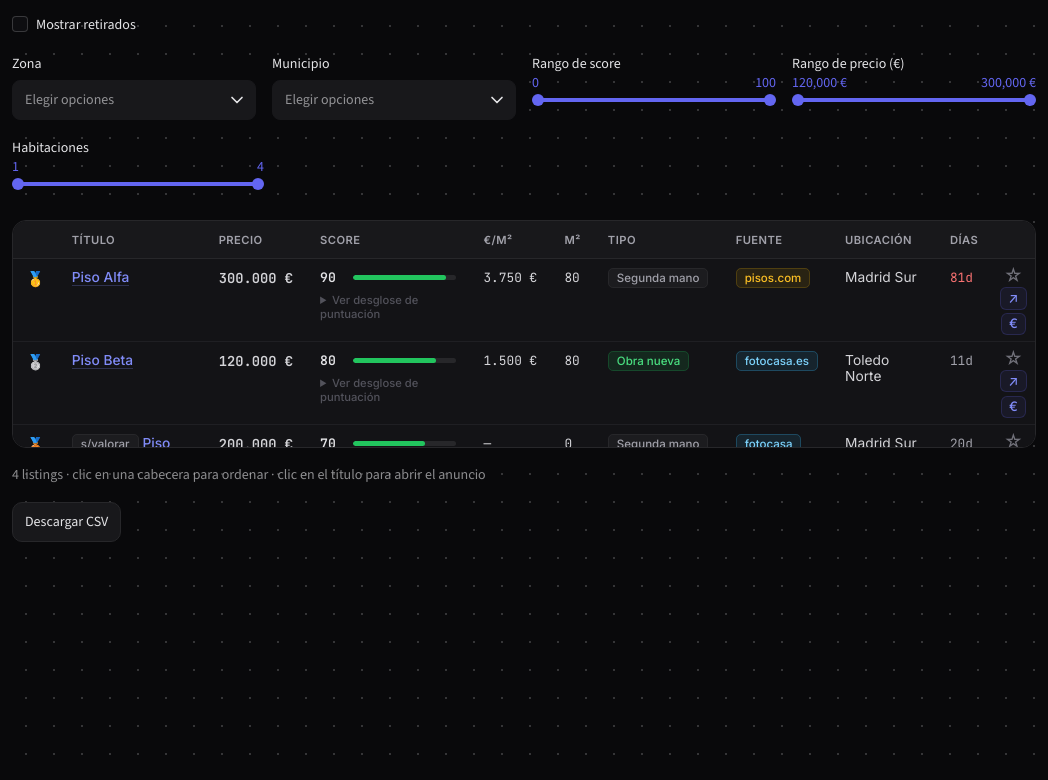
Test: Listados: ordenación por cabecera › primer clic ascendente, segundo descendente, con flecha
Step 1. Click the column heading "Precio" → point(256, 240), box [205,221,306,259]
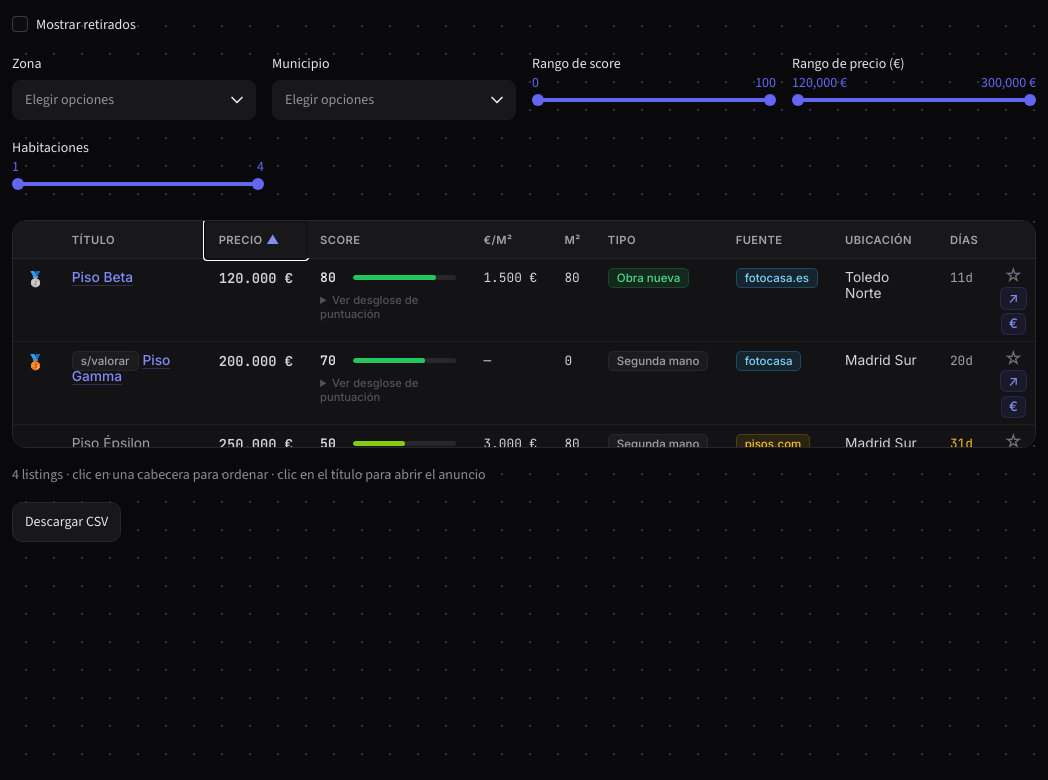
Result: the column heading "Precio ▲" is shown
Step 2. Click the column heading "Precio ▲" → point(256, 240), box [205,221,306,259]
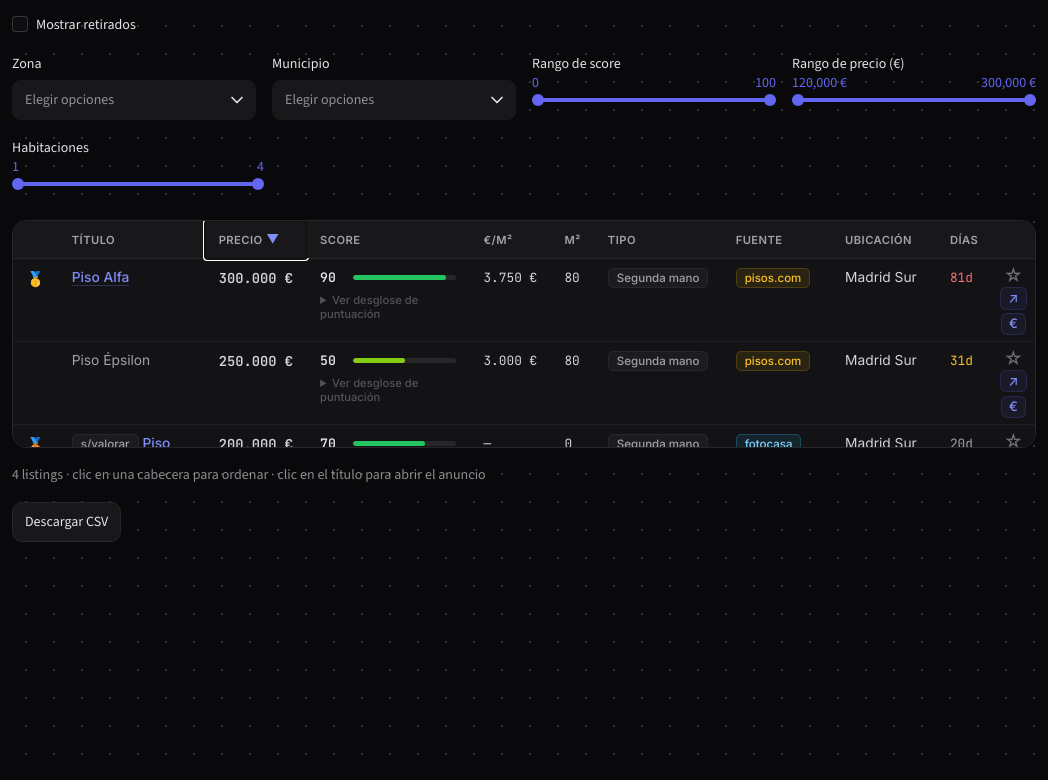
Result: the column heading "Precio ▼" is shown at [205,221,306,259]
